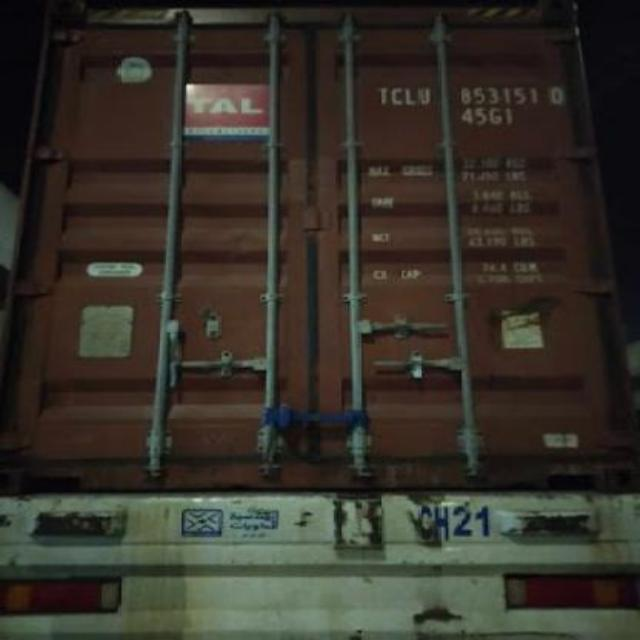0: (552, 87, 564, 103)
1: (530, 85, 540, 105), (504, 87, 512, 103)
3: (488, 85, 500, 106)
5: (514, 87, 528, 107), (472, 87, 486, 105)
8: (460, 87, 472, 105)
C: (391, 87, 404, 107)
L: (404, 85, 418, 105)
T: (376, 85, 388, 106)
U: (418, 87, 432, 105)
